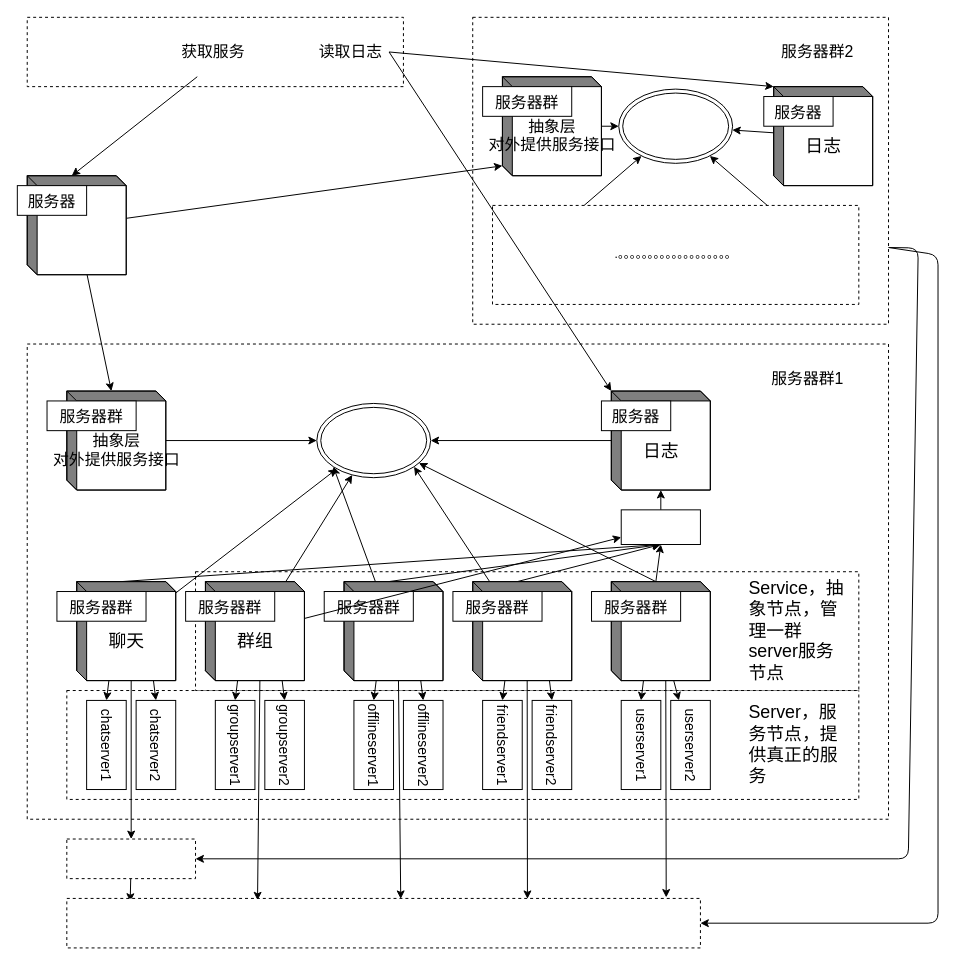
The diagram is 963 pixels wide and 965 high, and some of its shapes have lost their labels. Each missing label, with the box of its shape:
Mysql: (66, 897, 700, 948)
Ngnix: (26, 175, 126, 275)
Redis: (66, 838, 196, 879)
客户端: (26, 16, 403, 87)
日志存储: (620, 509, 700, 544)
用户、好友: (472, 581, 572, 681)
登录与注册: (610, 581, 710, 681)
离线消息: (343, 581, 443, 681)
